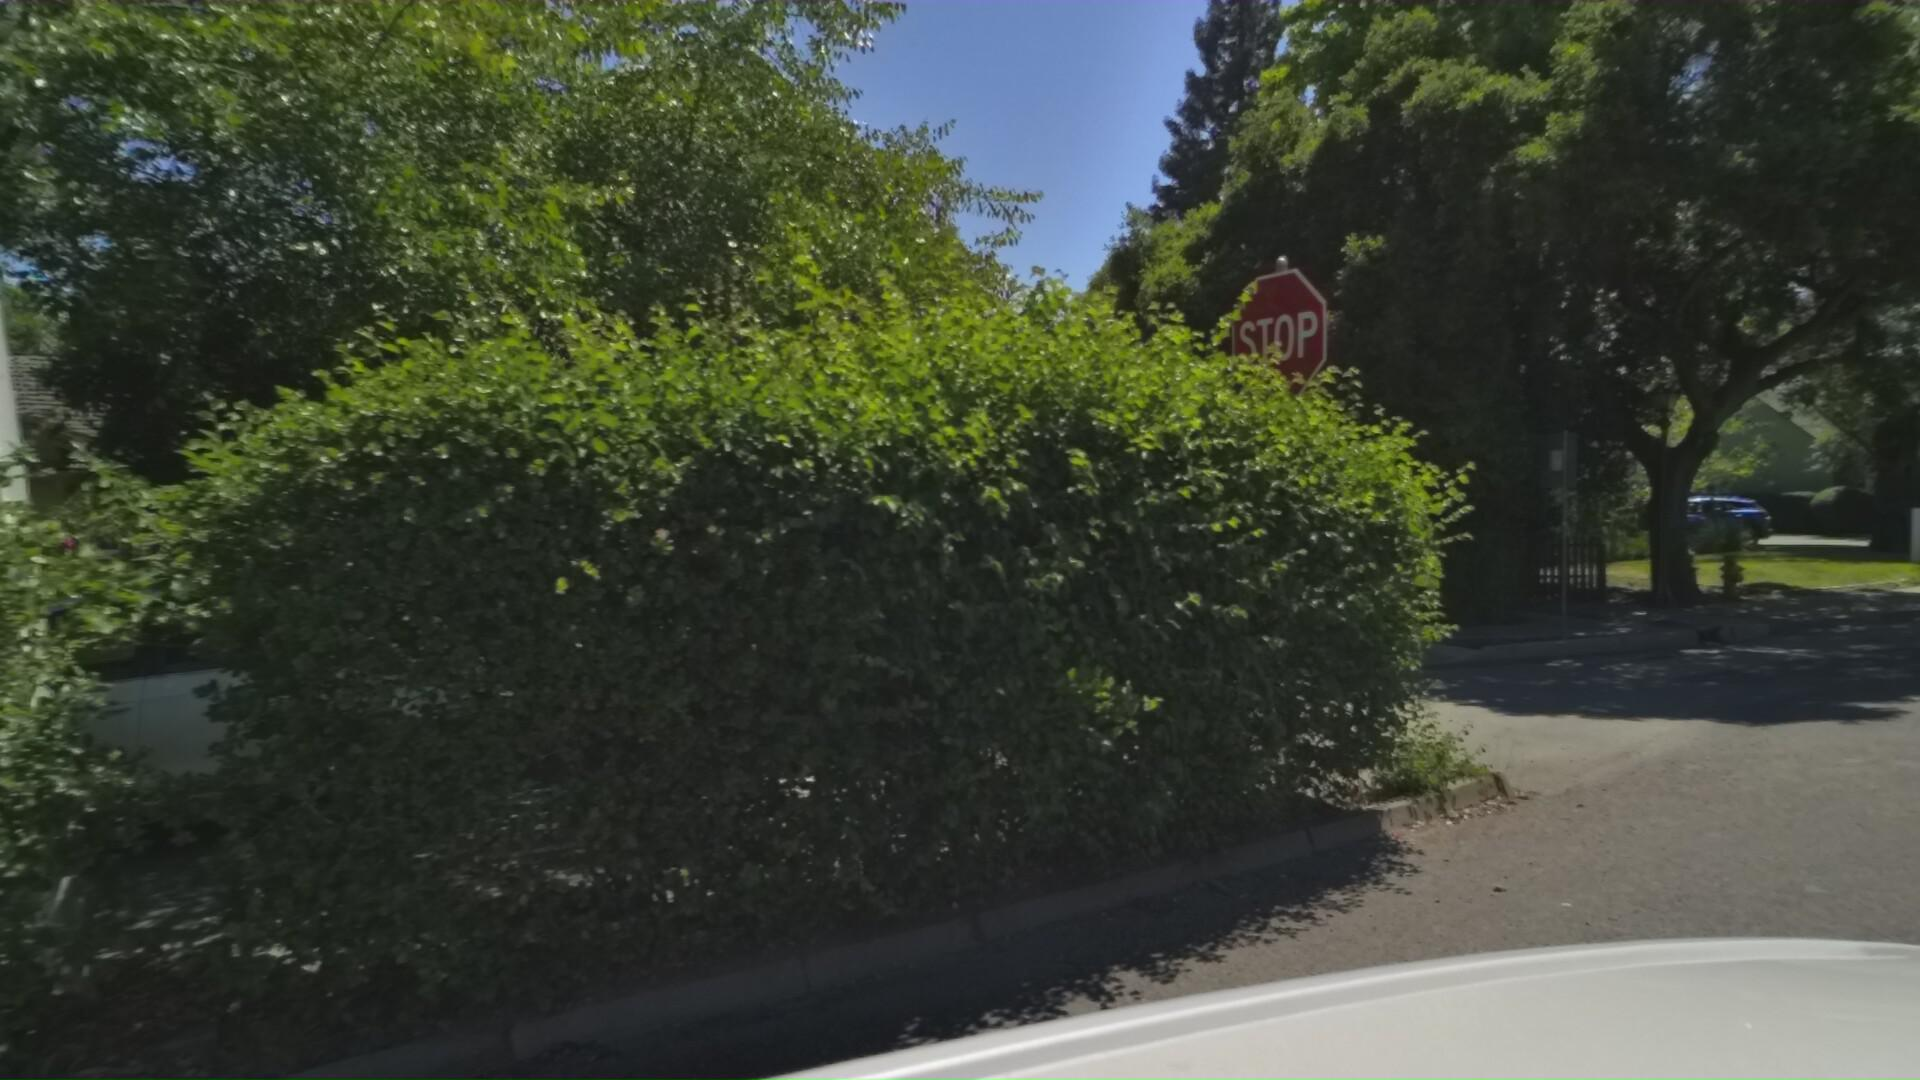car: (0, 546, 604, 963), (1604, 485, 1787, 545)
